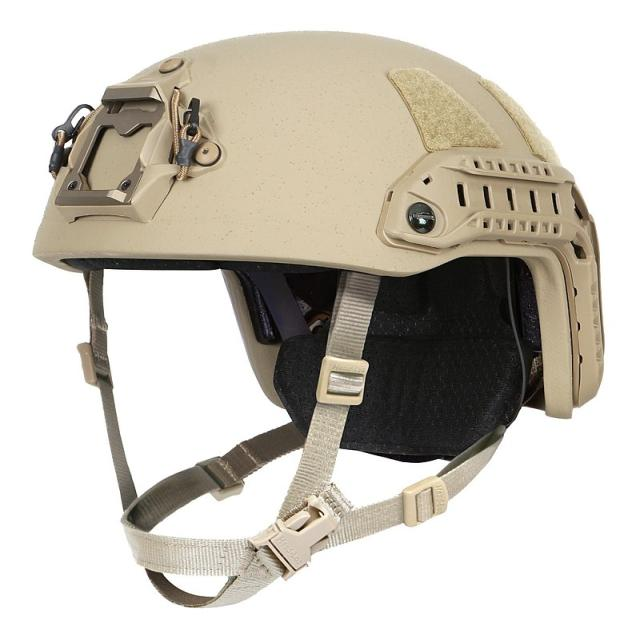Helmet: (34, 32, 603, 417)
